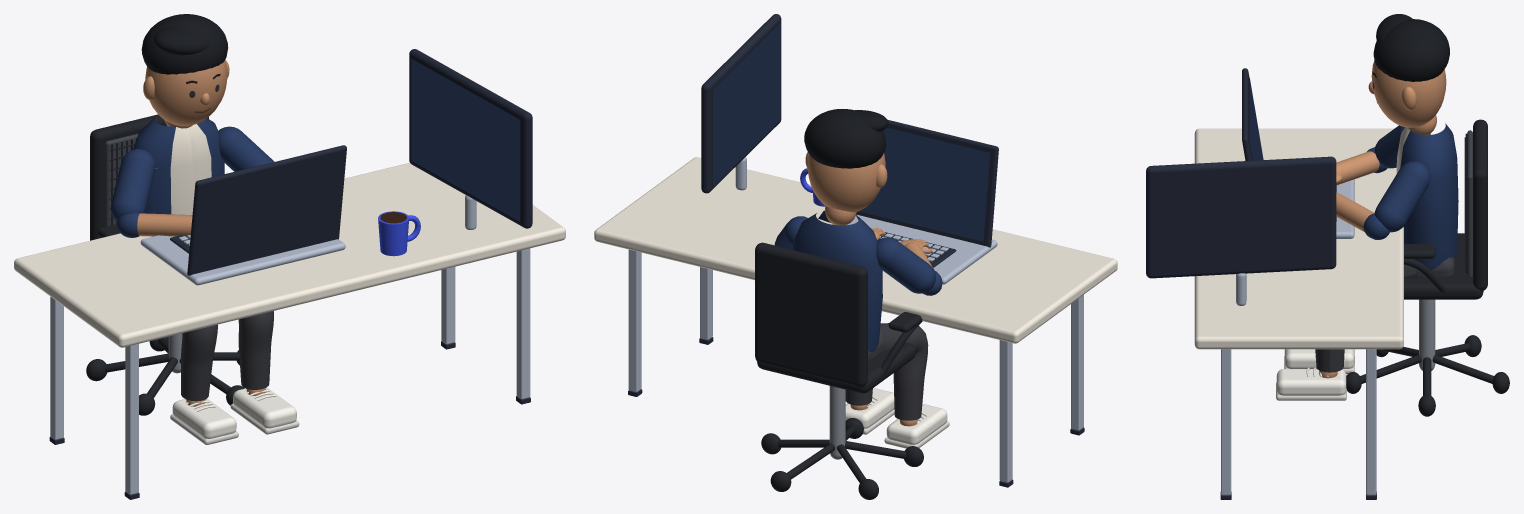
File: Carl-Developer-Workstation.glb
3 views of the same model, side by side, from view 1: azimuth 30°, elevation 25°; view 2: azimuth 150°, elevation 25°; view 3: azimuth 270°, elevation 25° (orthographic). The views are drawn at different scales.
Visible parts, largest first — view 1: Ivory_desk, Laptop, Monitor_screen, Carl_face_and_hair, Mesh_office_chair, Continuous_overshirt_and_tee, Carl_character, Second_monitor, Right_continuous_trouser_leg, Left_continuous_trouser_leg, Left_shoe, Right_shoe (+1 smaller); view 2: Ivory_desk, Mesh_office_chair, Laptop_screen, Carl_face_and_hair, Monitor_screen, Laptop, Continuous_overshirt_and_tee, Carl_character, Second_monitor, Left_continuous_trouser_leg, Left_shoe, Right_shoe; view 3: Ivory_desk, Second_monitor, Mesh_office_chair, Carl_face_and_hair, Continuous_overshirt_and_tee, Carl_character, Right_shoe, Laptop, Left_shoe, Right_continuous_trouser_leg, Laptop_screen, Rolled_sleeve.
Part boxes in pixels (x1,y1,x2,y2): Ivory_desk: (14,162,565,499); Laptop: (140,145,346,285); Monitor_screen: (411,58,520,221); Carl_face_and_hair: (141,14,229,125); Mesh_office_chair: (86,114,244,415); Continuous_overshirt_and_tee: (133,117,224,214); Carl_character: (110,120,274,406); Second_monitor: (409,49,532,229); Right_continuous_trouser_leg: (238,311,273,389); Left_continuous_trouser_leg: (181,324,217,401); Left_shoe: (170,398,238,444); Right_shoe: (230,387,299,434); Ivory_desk: (594,157,1117,487); Mesh_office_chair: (755,242,923,499); Laptop_screen: (859,127,990,241); Carl_face_and_hair: (804,109,888,212); Monitor_screen: (713,23,780,186); Laptop: (832,119,998,284); Continuous_overshirt_and_tee: (792,213,882,351); Carl_character: (774,206,935,426); Second_monitor: (701,14,781,193); Left_continuous_trouser_leg: (880,323,928,420); Left_shoe: (884,403,949,448); Right_shoe: (845,388,894,434); Ivory_desk: (1194,128,1403,499); Second_monitor: (1146,156,1336,305); Mesh_office_chair: (1346,119,1509,416); Carl_face_and_hair: (1368,14,1449,127); Continuous_overshirt_and_tee: (1396,123,1458,270); Carl_character: (1319,115,1454,378); Right_shoe: (1276,367,1346,400); Laptop: (1242,68,1354,238); Left_shoe: (1284,349,1354,374); Right_continuous_trouser_leg: (1315,264,1418,372); Laptop_screen: (1249,78,1263,160); Rolled_sleeve: (1363,213,1389,239).
Size of what is drawn, in the model's own units: 4.3 by 3.41 by 3.13.
